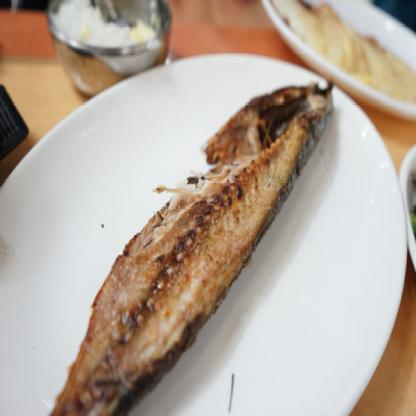Peixe: (41, 55, 339, 416)
